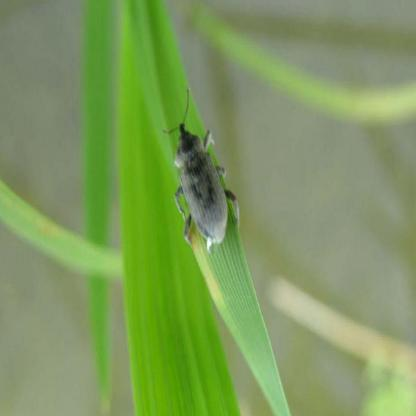rice-bug: (166, 108, 240, 241)
